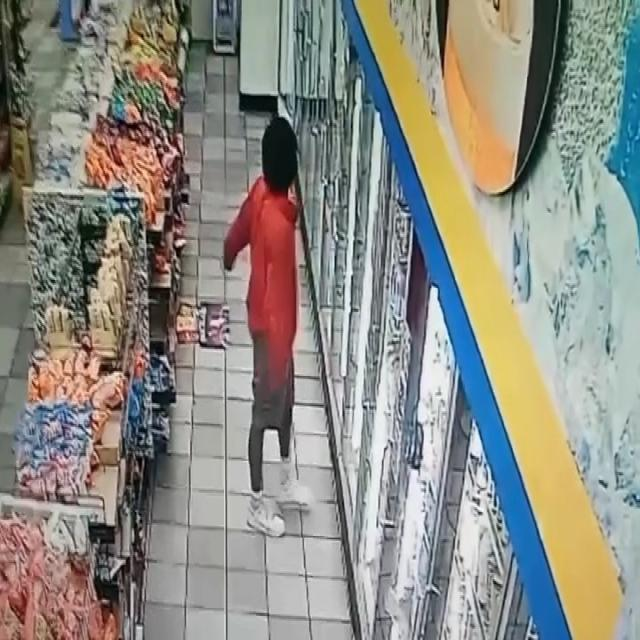normal: (218, 107, 326, 568)
